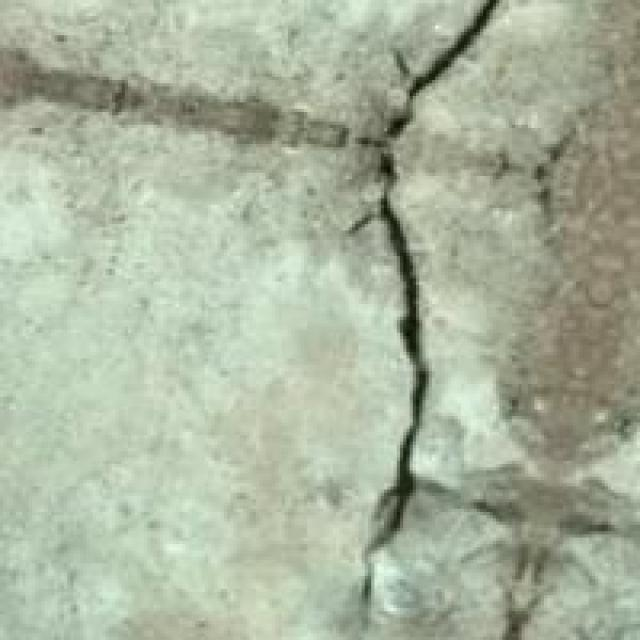crack: (330, 0, 540, 637)
